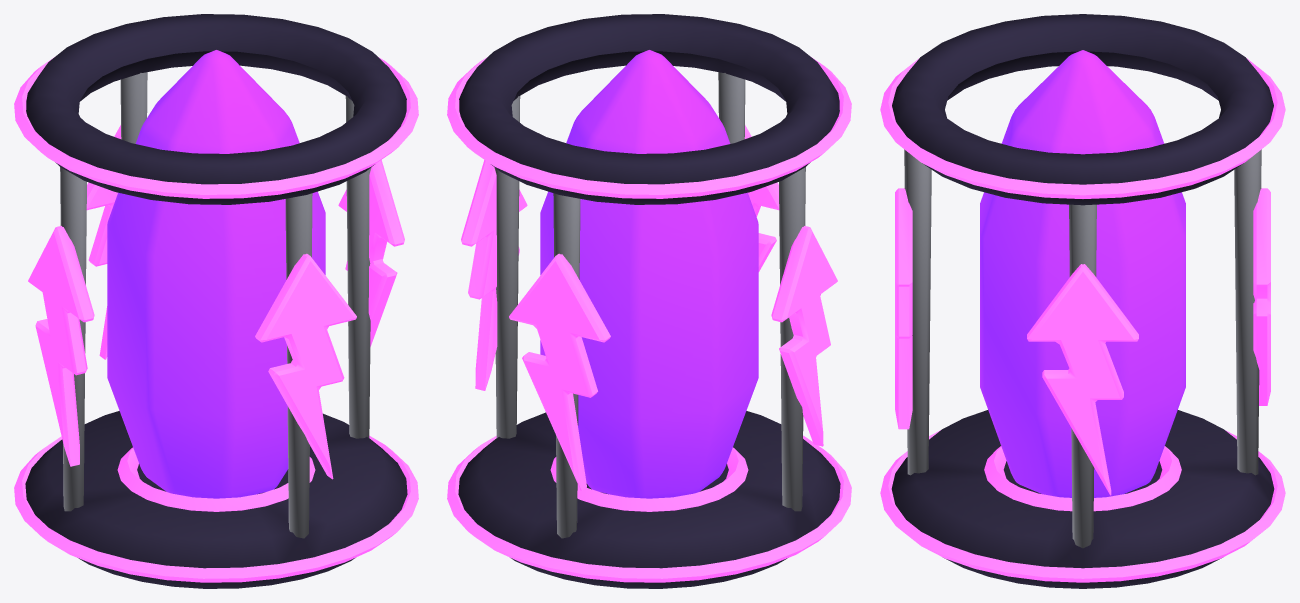
File: overdrive.glb
3 views of the same model, side by side, from view 1: azimuth 30°, elevation 25°; view 2: azimuth 150°, elevation 25°; view 3: azimuth 270°, elevation 25° (orthographic).
Parts seen in each view (by area): view 1: Overdrive Cage graphite, Overdrive Overdrive crystal, Overdrive lightning arrow, Overdrive Overdrive bolt glow, Overdrive Cage chrome; view 2: Overdrive Cage graphite, Overdrive Overdrive crystal, Overdrive lightning arrow, Overdrive Overdrive bolt glow, Overdrive Cage chrome; view 3: Overdrive Cage graphite, Overdrive Overdrive crystal, Overdrive lightning arrow, Overdrive Overdrive bolt glow, Overdrive Cage chrome.
Boxes of the visible parts, x1,y1,x2,y2 form: Overdrive Cage graphite: [25, 14, 407, 588]; Overdrive Overdrive crystal: [107, 50, 325, 498]; Overdrive lightning arrow: [28, 125, 404, 479]; Overdrive Overdrive bolt glow: [14, 57, 418, 582]; Overdrive Cage chrome: [60, 72, 371, 538]; Overdrive Cage graphite: [458, 14, 840, 588]; Overdrive Overdrive crystal: [540, 50, 758, 498]; Overdrive lightning arrow: [461, 125, 837, 490]; Overdrive Overdrive bolt glow: [447, 57, 851, 582]; Overdrive Cage chrome: [494, 72, 805, 538]; Overdrive Cage graphite: [891, 14, 1274, 588]; Overdrive Overdrive crystal: [980, 50, 1185, 497]; Overdrive lightning arrow: [895, 188, 1270, 495]; Overdrive Overdrive bolt glow: [880, 58, 1285, 582]; Overdrive Cage chrome: [904, 149, 1261, 548].
Size of the model in its own units: 0.91 by 1.22 by 0.91.
